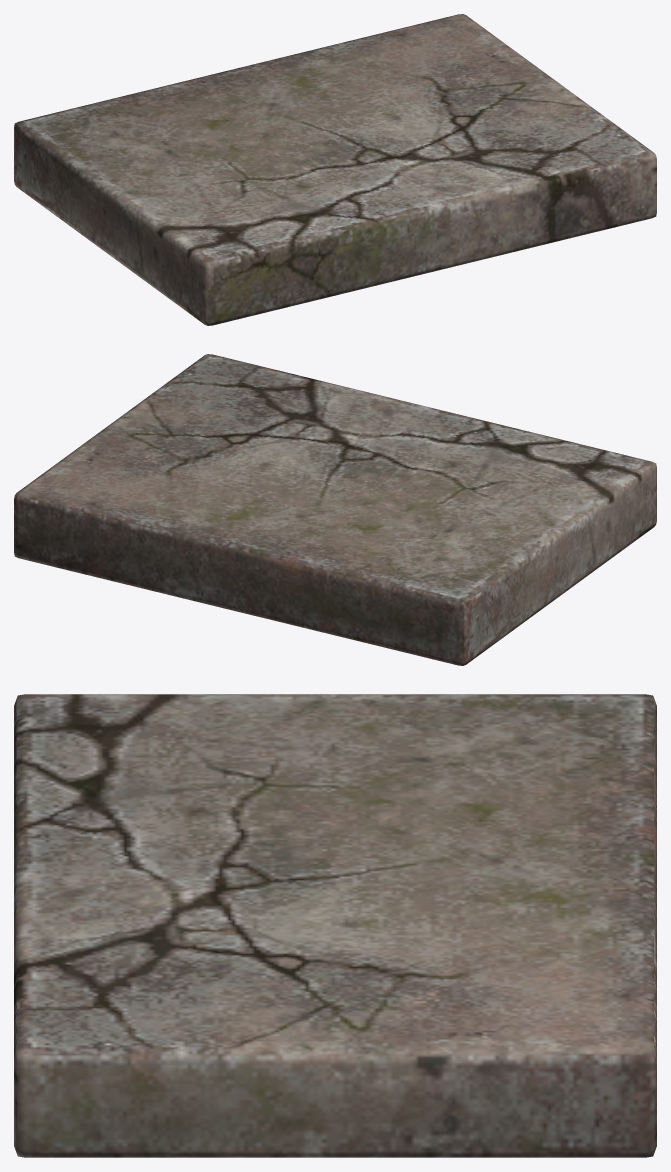
The model's file is SM_Curb_06.fbx.
3 renders of one model, top to bottom at view 1: azimuth 30°, elevation 25°; view 2: azimuth 150°, elevation 25°; view 3: azimuth 270°, elevation 25°, orthographic. The views are drawn at different scales.
Parts seen in each view (by area): view 1: SM_curb_06; view 2: SM_curb_06; view 3: SM_curb_06.
Part boxes in pixels (x1,y1,x2,y2): SM_curb_06: (14,14,656,325); SM_curb_06: (14,354,656,665); SM_curb_06: (14,694,656,1157).
Size of the model in its own units: 42.11 by 5.83 by 31.48.
